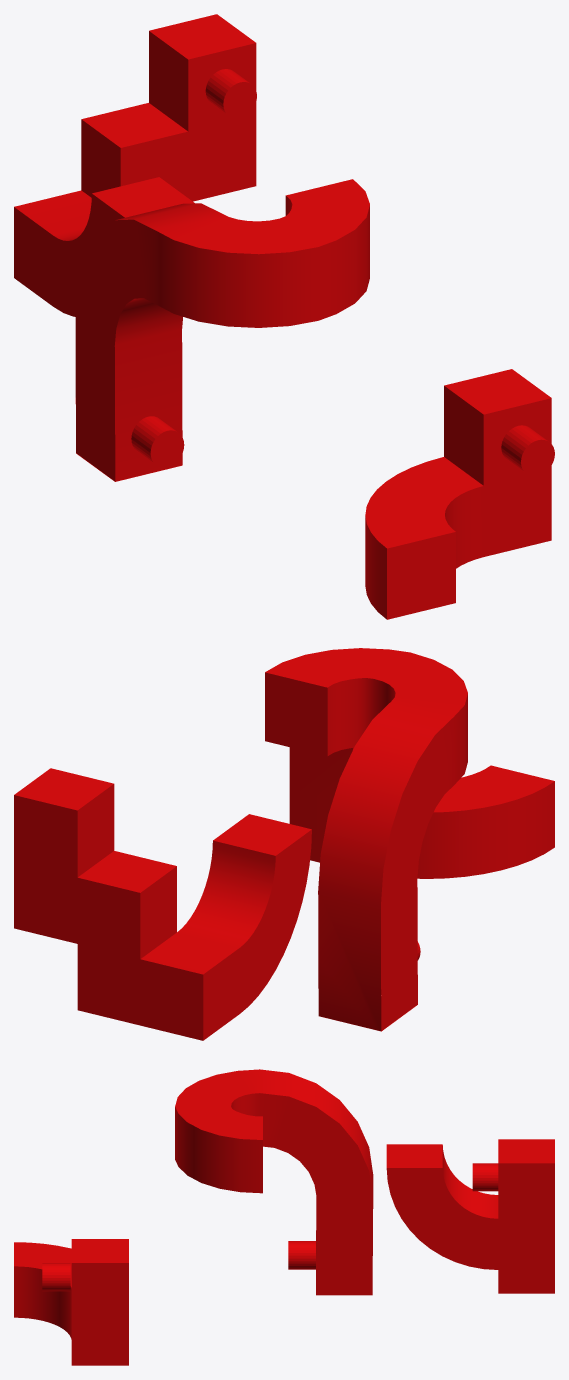
Rendered from square.glb.
The picture shows the model from 3 angles, top to bottom: view 1: azimuth 30°, elevation 25°; view 2: azimuth 150°, elevation 25°; view 3: azimuth 270°, elevation 25°; orthographic projection. The views are drawn at different scales.
Visible parts, largest first — view 1: 立方體.006, 立方體.005, 立方體.004; view 2: 立方體.005, 立方體.006, 立方體.004; view 3: 立方體.006, 立方體.005, 立方體.004.
Boxes of the visible parts, x1,y1,x2,y2 form: 立方體.006: [75, 179, 369, 481]; 立方體.005: [14, 14, 256, 316]; 立方體.004: [365, 369, 554, 619]; 立方體.005: [14, 768, 311, 1040]; 立方體.006: [265, 648, 467, 1031]; 立方體.004: [289, 747, 554, 878]; 立方體.006: [175, 1069, 373, 1295]; 立方體.005: [386, 1139, 554, 1293]; 立方體.004: [14, 1239, 128, 1365].
Bounding box in the file's own units: 16.01 × 16.07 × 38.88.
